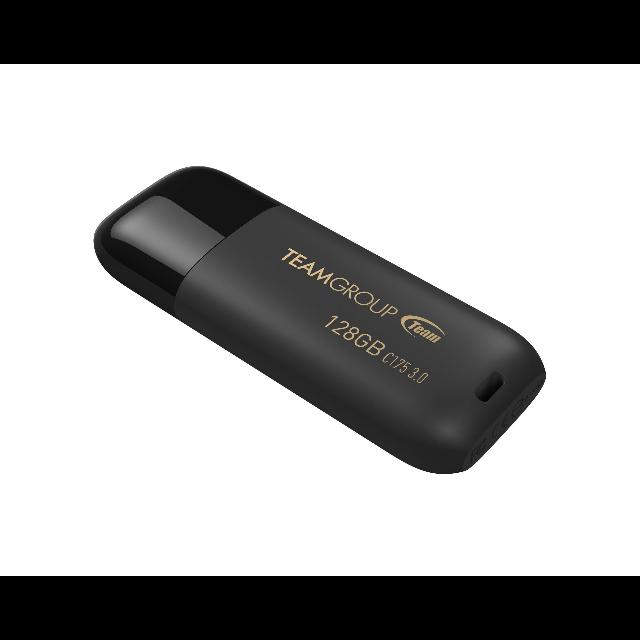USB-Flash-Drive: (92, 166, 549, 477)
